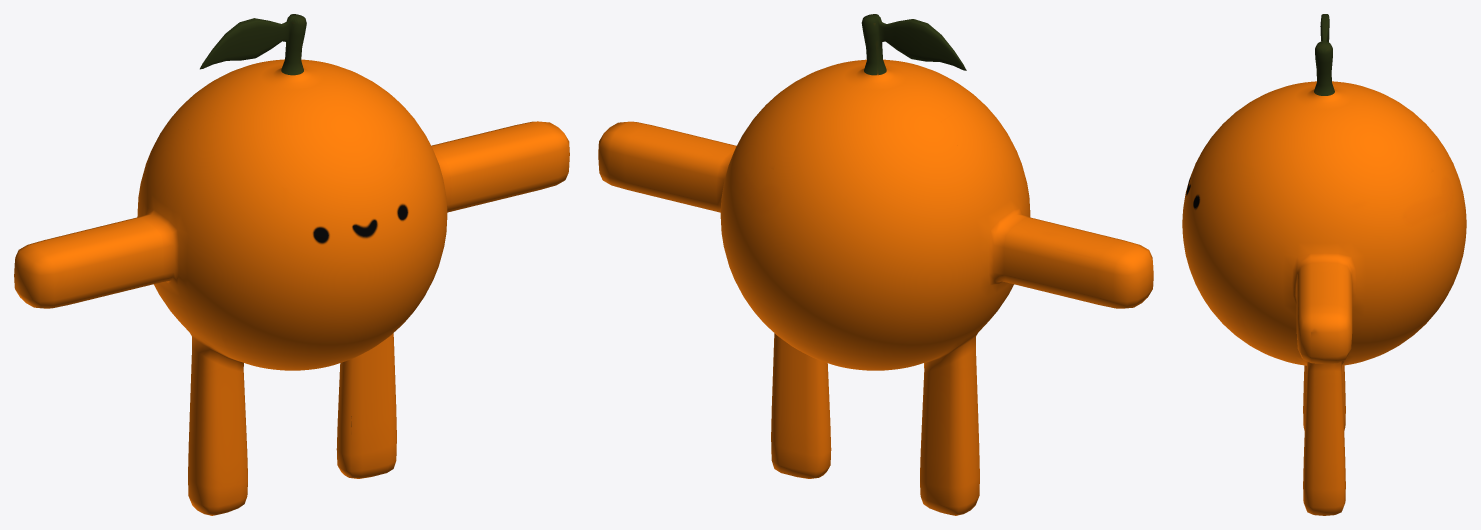
The picture shows the model from 3 angles, left to right: view 1: azimuth 30°, elevation 25°; view 2: azimuth 150°, elevation 25°; view 3: azimuth 270°, elevation 25°; orthographic projection. The views are drawn at different scales.
Visible parts, largest first — view 1: Esfera; view 2: Esfera; view 3: Esfera.
Part boxes in pixels (box(x1,y1,x2,y2)): Esfera: box(14, 14, 569, 515); Esfera: box(598, 14, 1153, 515); Esfera: box(1182, 14, 1466, 515).
Bounding box in the file's own units: 4 × 3.39 × 1.97.
Materials: 1 (1 with a texture image).
